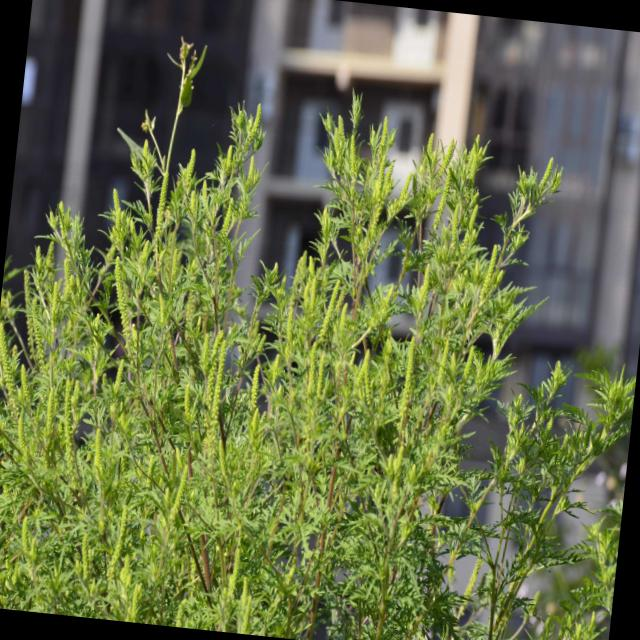ambrosia: (134, 304, 298, 584), (312, 88, 472, 306), (370, 276, 496, 547), (0, 364, 144, 591), (75, 170, 198, 382), (256, 282, 366, 500), (175, 53, 289, 241)
